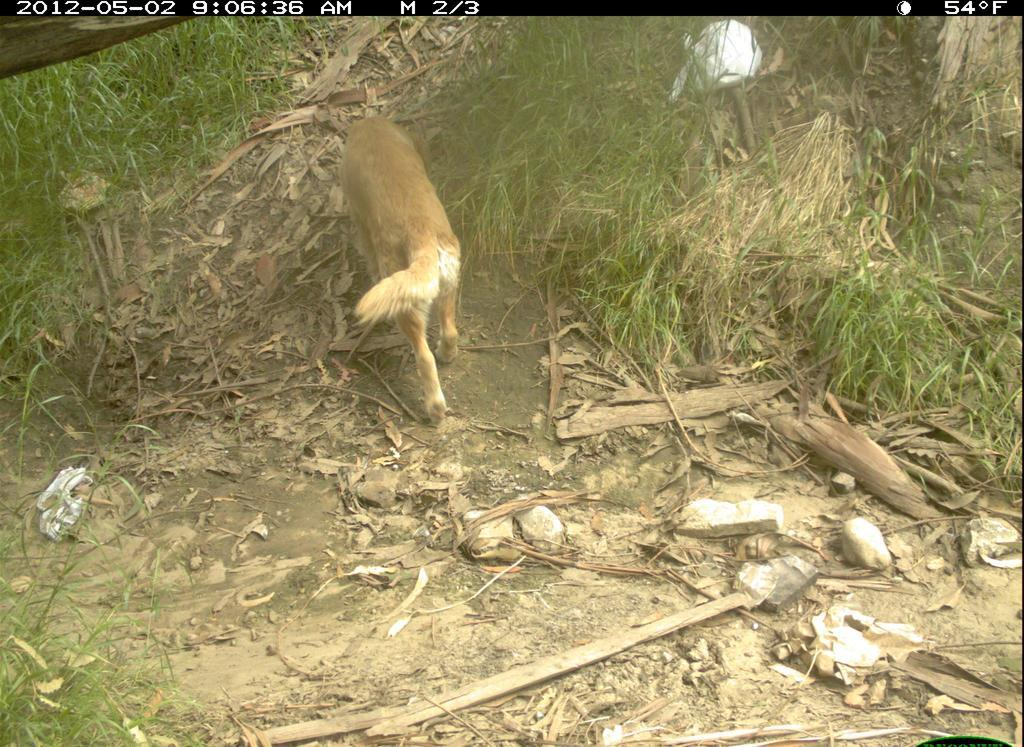dog: (324, 111, 477, 428)
